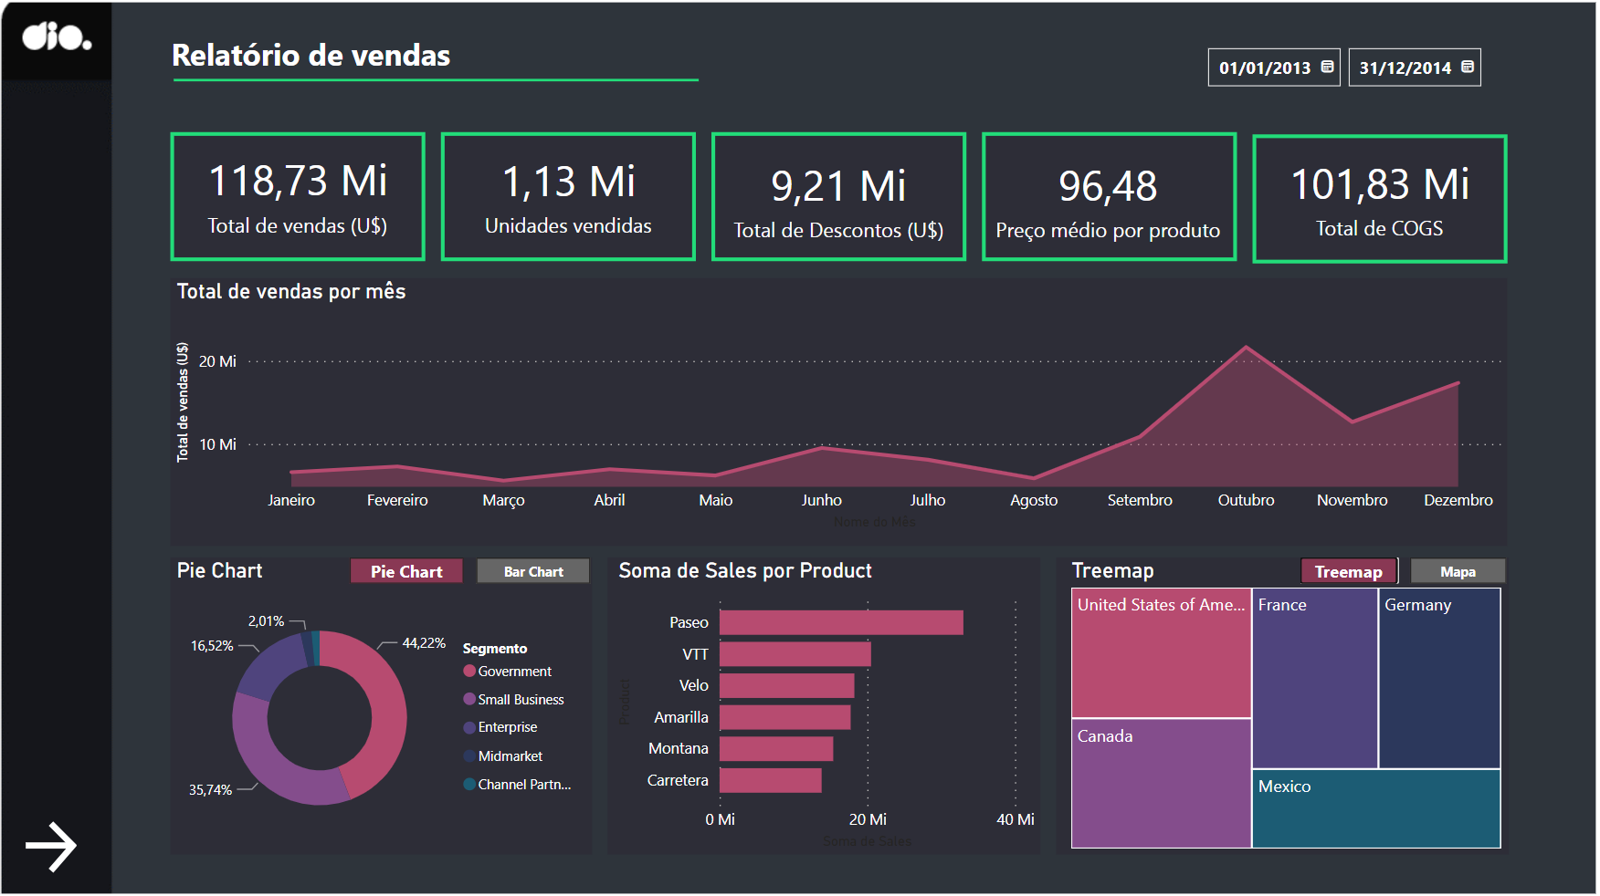

What the dashboard file says about the page in this screenshot:
{"tool":"powerbi","page":{"name":"Home","canvas":[1280,720],"ordinal":0},"visuals":[{"type":"image","box":[0,0,1279.9,720],"z":0},{"type":"group","id":"g1","title":"Cartões","box":[139.6,108.2,1065.5,105.5],"z":1000},{"type":"shape","box":[139.6,108.2,203.1,102.9],"z":2000,"group":"g1"},{"type":"card","fields":{"Values":["Sum(Financial. Sales)"]},"box":[139.7,109.7,202.9,94.1],"z":2000},{"type":"shape","box":[355,108.2,203.1,102.9],"z":3000,"group":"g1"},{"type":"card","fields":{"Values":["Sum(Financial.Units Sold)"]},"box":[355.6,109.6,203.1,94.6],"z":3000},{"type":"shape","box":[570.5,108.2,203.1,102.9],"z":4000,"group":"g1"},{"type":"shape","box":[139.7,224.6,1064.7,213.9],"z":4000},{"type":"shape","box":[785.9,108.2,203.1,102.9],"z":5000,"group":"g1"},{"type":"card","fields":{"Values":["Sum(Financial.Discounts)"]},"box":[571.3,113.8,203.1,94.6],"z":5000},{"type":"shape","box":[1001.4,109.6,203.1,102.9],"z":6000,"group":"g1"},{"type":"card","fields":{"Values":["Avg(Financial.Manufacturing Price)"]},"box":[785.5,113.8,203.1,94.6],"z":6000},{"type":"card","fields":{"Values":["Sum(Financial.COGS)"]},"box":[1001.5,112.1,202.9,95.3],"z":7000},{"type":"areaChart","title":"Total de vendas por mês","fields":{"Category":["TCalendário.Nome do Mês"],"Y":["Sum(Financial. Sales)"]},"box":[139.7,224.6,1064.7,205.4],"z":8000},{"type":"shape","box":[139.7,447,336.2,237.1],"z":9000},{"type":"shape","box":[488.1,447,344.7,237.1],"z":10000},{"type":"shape","box":[845,447,360.6,237.1],"z":11000},{"type":"textbox","box":[135.7,24.4,419.3,42.8],"z":12000},{"type":"shape","box":[143,56.2,418.1,20.8],"z":13000},{"type":"slicer","fields":{"Values":["TCalendário.Data"]},"box":[953.5,30.6,251.8,52.6],"z":14000},{"type":"clusteredBarChart","fields":{"Category":["Financial.Product"],"Y":["Sum(Financial. Sales)"]},"box":[491.4,447.4,341.1,237.1],"z":15000},{"type":"treemap","title":"Treemap","fields":{"Group":["Financial.Country"],"Values":["Sum(Financial. Sales)"]},"box":[852.3,447,352.1,237.1],"z":16000},{"type":"bookmarkNavigator","box":[1040.2,446.9,165.1,21.1],"z":18000},{"type":"clusteredBarChart","title":"Bar Chart","fields":{"Category":["Financial.Segment"],"Y":["Sum(Financial. Sales)"]},"box":[139,446.9,335.1,237.1],"z":20000},{"type":"bookmarkNavigator","box":[283,446.9,193.6,21.1],"z":21000},{"type":"actionButton","box":[18.6,652.9,55.9,50.9],"z":22000}]}

Visuals, with their boxes in screenshot pixels (x1, y1, x2, y2), scaled from the page's 1280x720 canvas onto the 1600x896 screenshot:
image: crop(0, 0, 1599, 895)
"Cartões" group: crop(174, 135, 1506, 266)
shape: crop(174, 135, 428, 263)
card - Sum(Financial. Sales): crop(175, 137, 428, 254)
shape: crop(444, 135, 698, 263)
card - Sum(Financial.Units Sold): crop(444, 136, 698, 254)
shape: crop(713, 135, 967, 263)
shape: crop(175, 280, 1506, 546)
shape: crop(982, 135, 1236, 263)
card - Sum(Financial.Discounts): crop(714, 142, 968, 259)
shape: crop(1252, 136, 1506, 264)
card - Avg(Financial.Manufacturing Price): crop(982, 142, 1236, 259)
card - Sum(Financial.COGS): crop(1252, 140, 1506, 258)
"Total de vendas por mês" areaChart: crop(175, 280, 1506, 535)
shape: crop(175, 556, 595, 851)
shape: crop(610, 556, 1041, 851)
shape: crop(1056, 556, 1507, 851)
textbox: crop(170, 30, 694, 84)
shape: crop(179, 70, 701, 96)
slicer - TCalendário.Data: crop(1192, 38, 1507, 104)
clusteredBarChart - Financial.Product x Sum(Financial. Sales): crop(614, 557, 1041, 852)
"Treemap" treemap: crop(1065, 556, 1506, 851)
bookmarkNavigator: crop(1300, 556, 1507, 582)
"Bar Chart" clusteredBarChart: crop(174, 556, 593, 851)
bookmarkNavigator: crop(354, 556, 596, 582)
actionButton: crop(23, 812, 93, 876)
